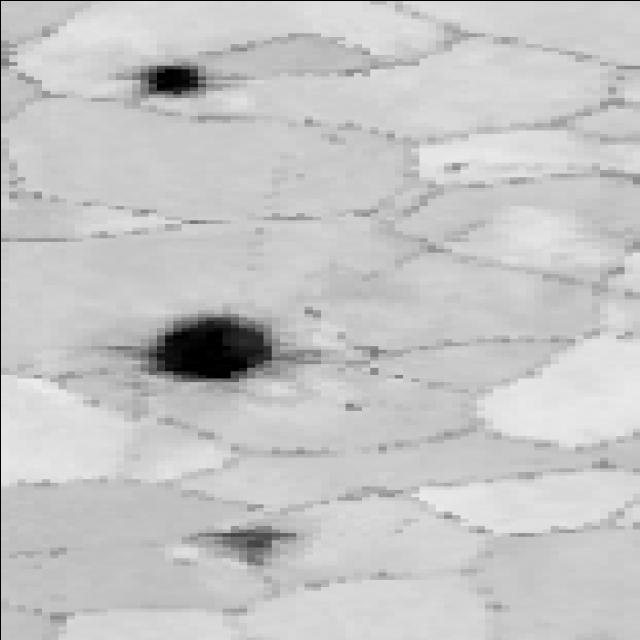good_void: (123, 308, 334, 392), (157, 510, 326, 573), (104, 54, 258, 112), (301, 392, 387, 424), (430, 155, 479, 181), (284, 300, 340, 322)
